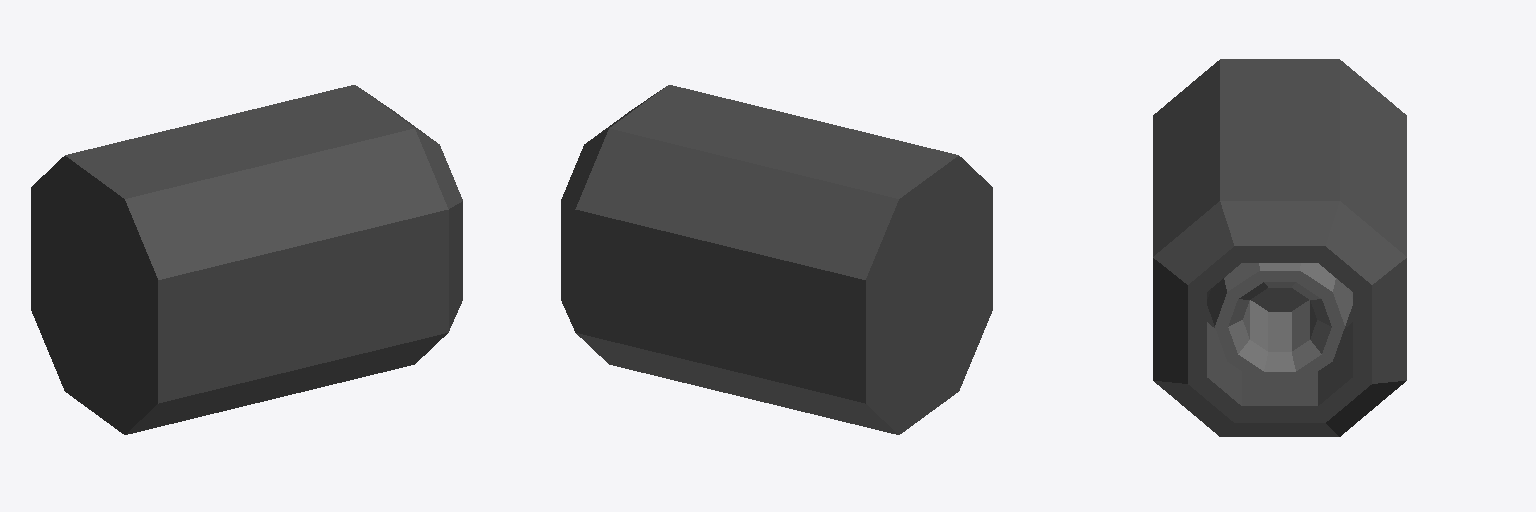
File: Spacestation_Propulsion_Thruster_Single_Small.obj
3 views of the same model, side by side, from view 1: azimuth 30°, elevation 25°; view 2: azimuth 150°, elevation 25°; view 3: azimuth 270°, elevation 25° (orthographic).
Visible parts, largest first — view 1: object1; view 2: object1; view 3: object1, object2.
Boxes of the visible parts, <box> form: object1: <box>31,85,462,434</box>; object1: <box>561,85,992,434</box>; object1: <box>1153,59,1406,436</box>; object2: <box>1207,263,1352,382</box>.
Bounding box in the file's own units: 1 × 0.7 × 0.6836.